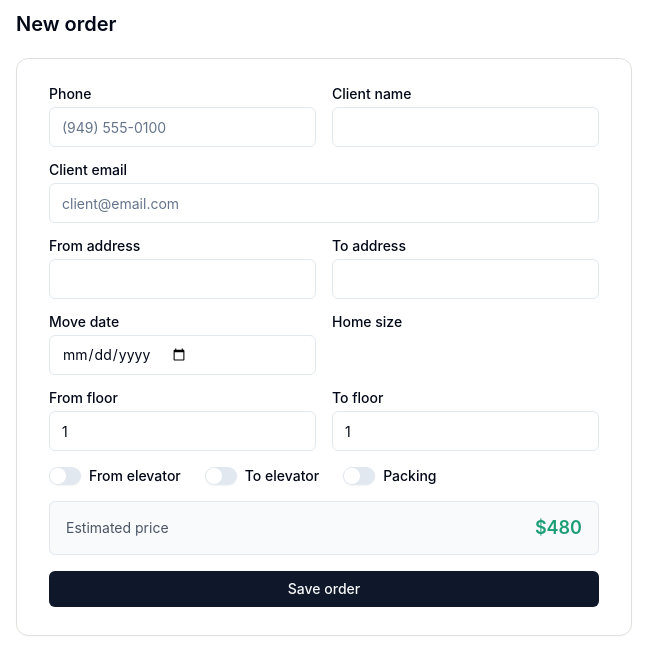
Test: NewOrderPage › AC2 — phone blur auto-fills client name when client found
The image size is (649, 653).
Type "(949) 632-9557" into the field labelled "Phone" at (182, 127), box [49,107,316,147]
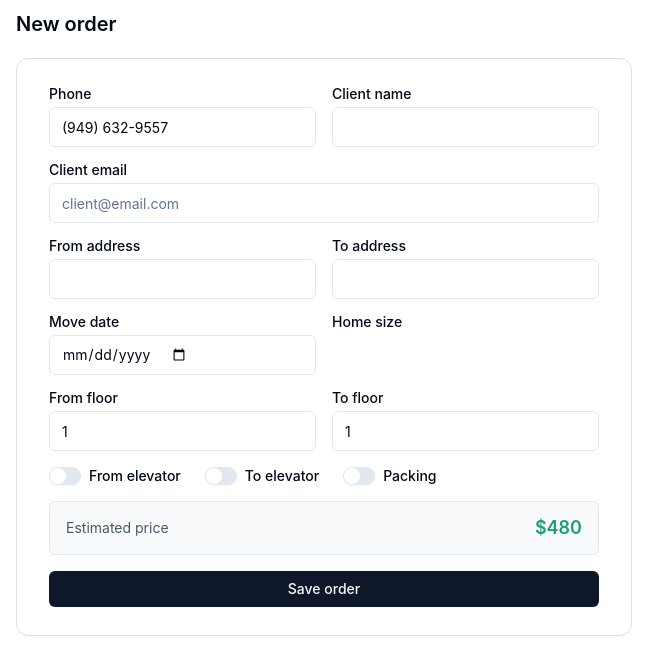
Leave the field labelled "Phone", box [49,107,316,147]
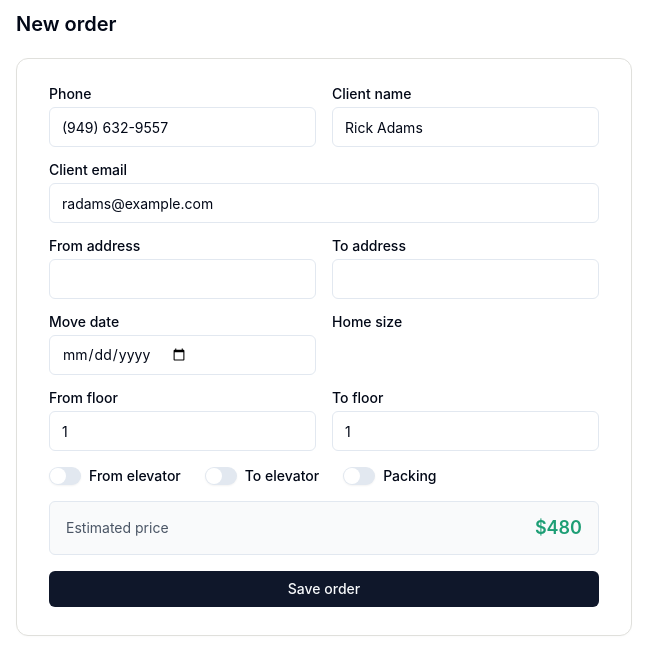
Expected: the field labelled "Client name" holds "Rick Adams", [332,107,599,147]
